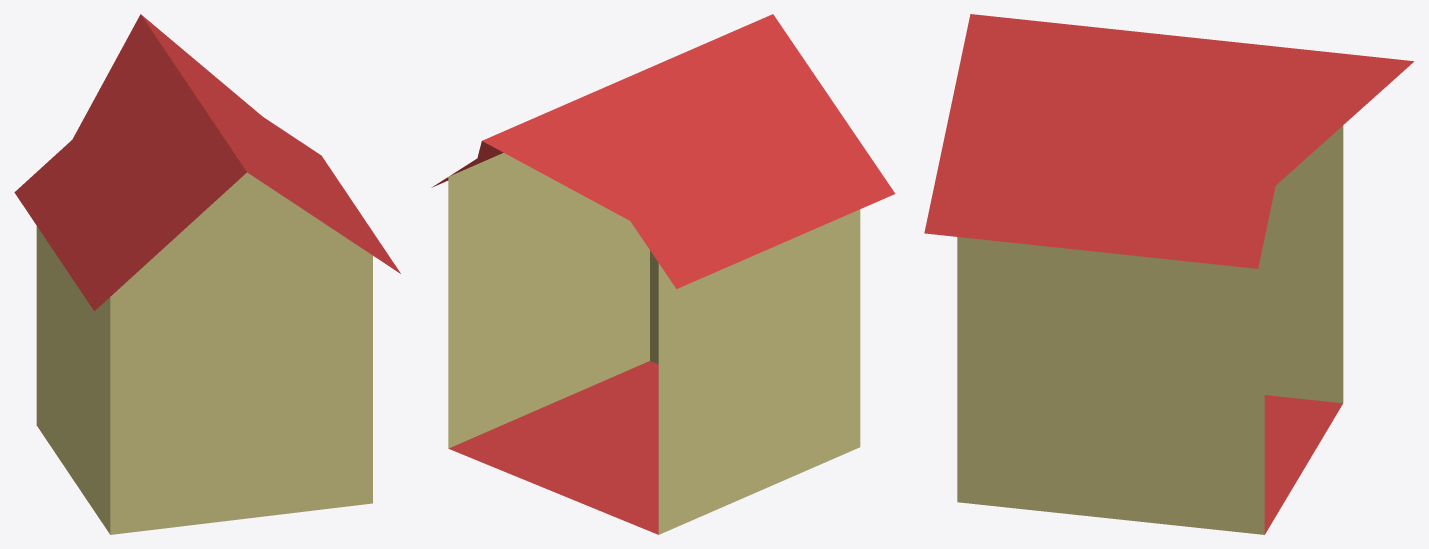
3 views of the same model, side by side, from view 1: azimuth 30°, elevation 25°; view 2: azimuth 150°, elevation 25°; view 3: azimuth 270°, elevation 25° (orthographic). The views are drawn at different scales.
Size of the model in its own units: 12.34 by 13.5 by 12.73.
